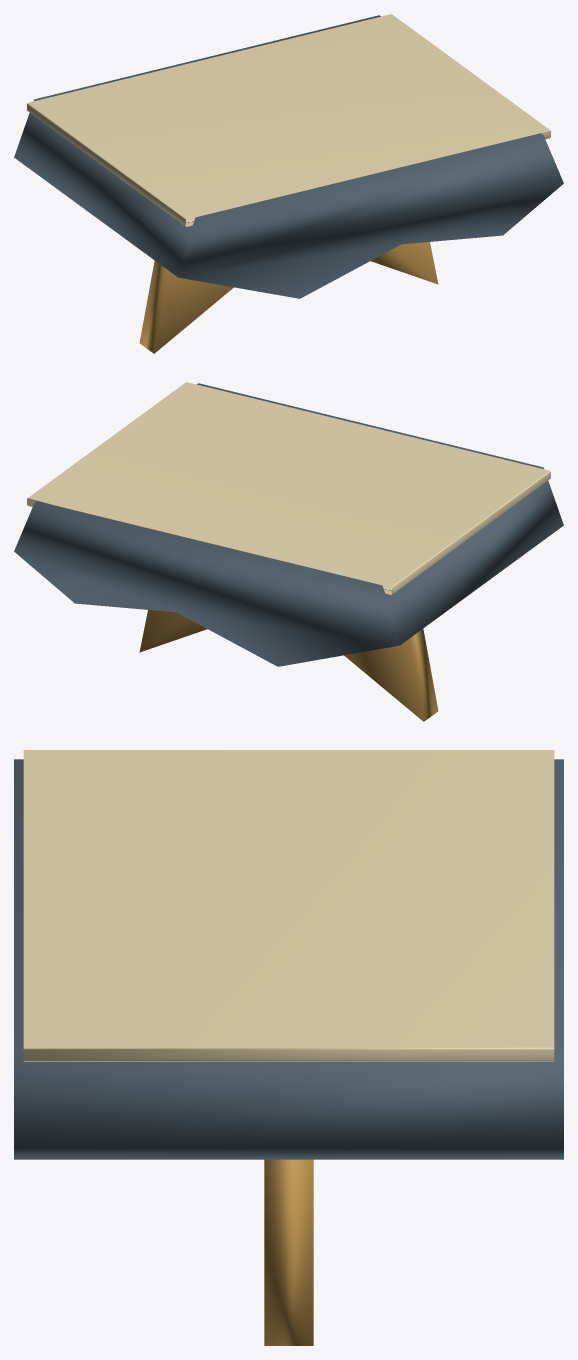
The model's file is prop_3_0.glb.
3 renders of one model, top to bottom at view 1: azimuth 30°, elevation 25°; view 2: azimuth 150°, elevation 25°; view 3: azimuth 270°, elevation 25°, orthographic. The views are drawn at different scales.
Visible parts, largest first — view 1: PlatformTop, CloudPlatform, FeatherUnderside (×2); view 2: PlatformTop, CloudPlatform, FeatherUnderside (×2); view 3: PlatformTop, CloudPlatform, FeatherUnderside.
Part boxes in pixels (x1,y1,x2,y2): PlatformTop: (27,14,550,226); CloudPlatform: (14,15,563,298); FeatherUnderside (×2): (139,242,438,353); PlatformTop: (27,382,550,594); CloudPlatform: (14,383,563,666); FeatherUnderside (×2): (139,610,438,721); PlatformTop: (23,750,554,1061); CloudPlatform: (14,759,563,1159); FeatherUnderside: (264,1159,313,1345).
Size of the model in its own units: 3.8 by 1.86 by 2.8.
